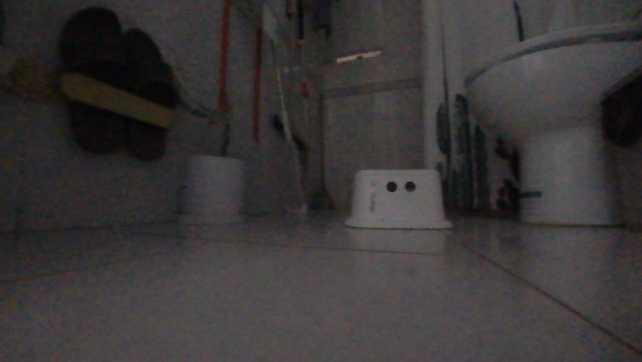toilet: (460, 0, 640, 226)
